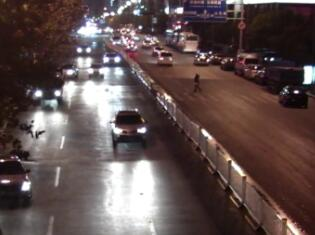bus: (173, 28, 199, 54)
car: (107, 105, 151, 149), (2, 154, 35, 205), (28, 70, 65, 106), (278, 83, 311, 110), (58, 61, 82, 81), (153, 48, 176, 68), (241, 62, 266, 80), (85, 61, 107, 81), (238, 54, 257, 75), (100, 51, 123, 66), (190, 51, 210, 66), (75, 40, 93, 56)
